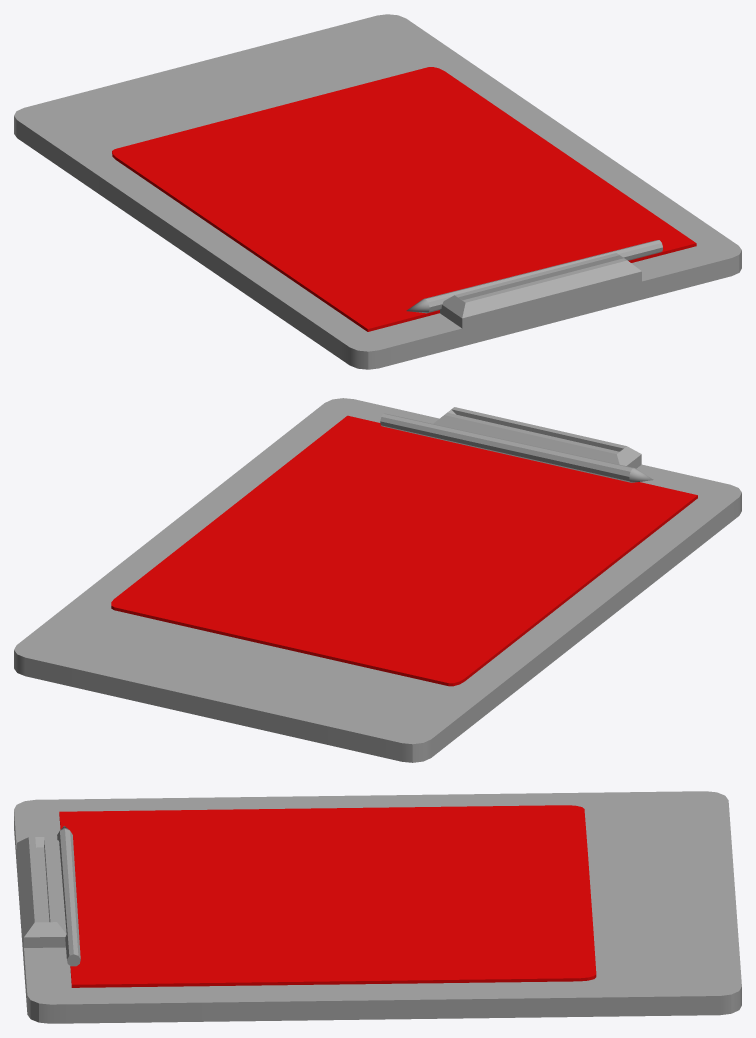
The model's file is ClipBoard.fbx.
3 renders of one model, top to bottom at view 1: azimuth 30°, elevation 25°; view 2: azimuth 150°, elevation 25°; view 3: azimuth 270°, elevation 25°, orthographic. The views are drawn at different scales.
Parts seen in each view (by area): view 1: Clipboard; view 2: Clipboard; view 3: Clipboard.
Boxes of the visible parts, box(x1,y1,x2,y2) form: Clipboard: box(14, 14, 741, 369); Clipboard: box(14, 398, 741, 762); Clipboard: box(14, 791, 741, 1023).
Size of the model in its own units: 28.34 by 2.48 by 40.86.
